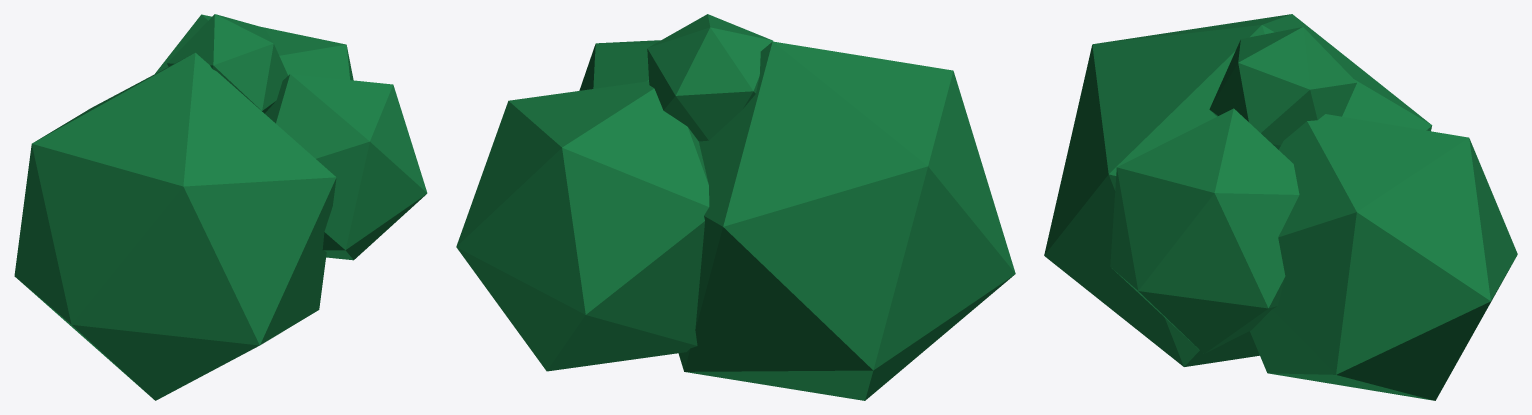
File: spring_bush_2.fbx
The picture shows the model from 3 angles, left to right: view 1: azimuth 30°, elevation 25°; view 2: azimuth 150°, elevation 25°; view 3: azimuth 270°, elevation 25°; orthographic projection. The views are drawn at different scales.
Parts seen in each view (by area): view 1: rock_2, BUSH.003, BUSH.004, BUSH.002; view 2: rock_2, BUSH.002, BUSH.004, BUSH.003; view 3: BUSH.002, rock_2, BUSH.003, BUSH.004.
Part boxes in pixels (x1=…): rock_2: x1=14, y1=52, x2=336, y2=400; BUSH.003: x1=265, y1=74, x2=427, y2=260; BUSH.004: x1=167, y1=14, x2=288, y2=113; BUSH.002: x1=155, y1=14, x2=353, y2=80; rock_2: x1=678, y1=41, x2=1015, y2=400; BUSH.002: x1=456, y1=81, x2=709, y2=371; BUSH.004: x1=647, y1=14, x2=773, y2=141; BUSH.003: x1=579, y1=40, x2=660, y2=90; BUSH.002: x1=1250, y1=114, x2=1517, y2=400; rock_2: x1=1044, y1=14, x2=1432, y2=366; BUSH.003: x1=1110, y1=108, x2=1299, y2=353; BUSH.004: x1=1209, y1=27, x2=1356, y2=149.
Bounding box in the file's own units: 4.09 × 3.45 × 3.85.
